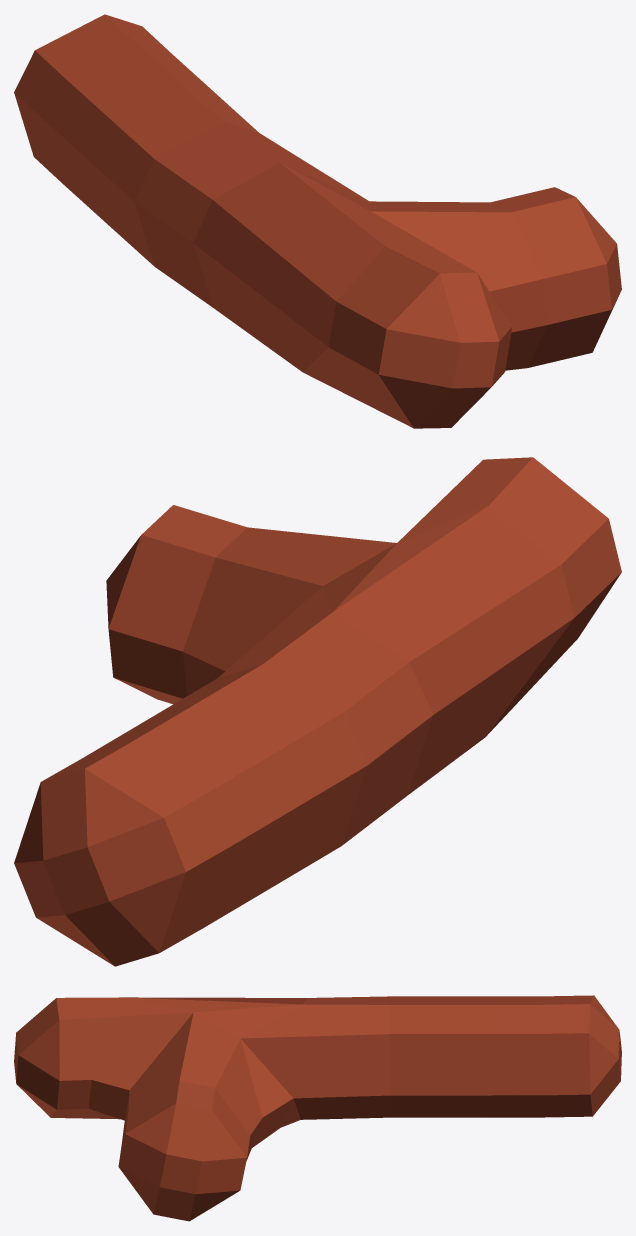
File: Log1.fbx
The picture shows the model from 3 angles, top to bottom: view 1: azimuth 30°, elevation 25°; view 2: azimuth 150°, elevation 25°; view 3: azimuth 270°, elevation 25°; orthographic projection. The views are drawn at different scales.
Parts seen in each view (by area): view 1: Vert; view 2: Vert; view 3: Vert.
Part boxes in pixels (x1,y1,x2,y2): Vert: (14,14,621,428); Vert: (14,457,621,966); Vert: (14,995,621,1221).
Bounding box in the file's own units: 85.08 × 45.32 × 174.
